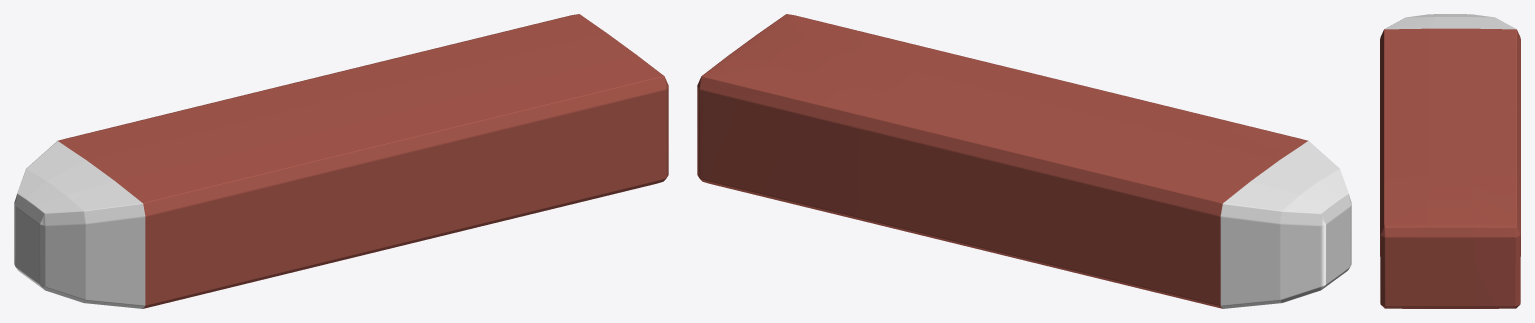
Rendered from SM_Submarine.fbx.
3 renders of one model, left to right at view 1: azimuth 30°, elevation 25°; view 2: azimuth 150°, elevation 25°; view 3: azimuth 270°, elevation 25°, orthographic. The views are drawn at different scales.
Visible parts, largest first — view 1: SM_Ship; view 2: SM_Ship; view 3: SM_Ship.
Boxes of the visible parts, left/top/right/bottom form: SM_Ship: left=14, top=14, right=668, bottom=308; SM_Ship: left=697, top=14, right=1351, bottom=308; SM_Ship: left=1380, top=14, right=1520, bottom=308.
Bounding box in the file's own units: 2034 × 378 × 534.
